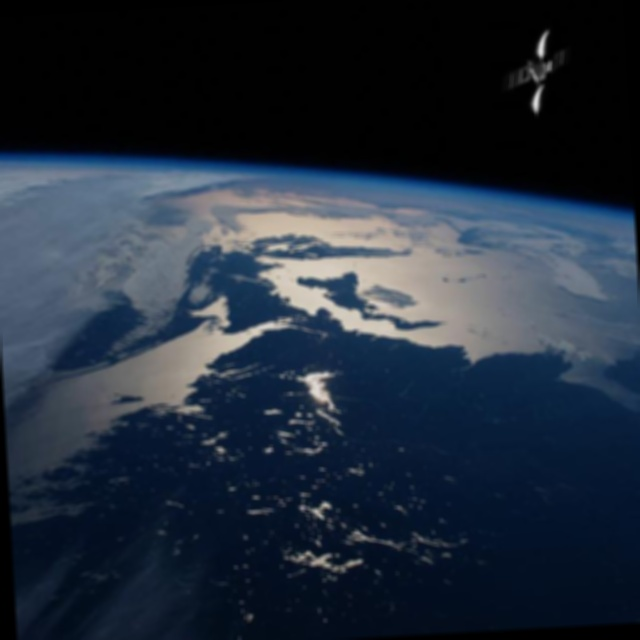medium_debris: (486, 18, 593, 125)
